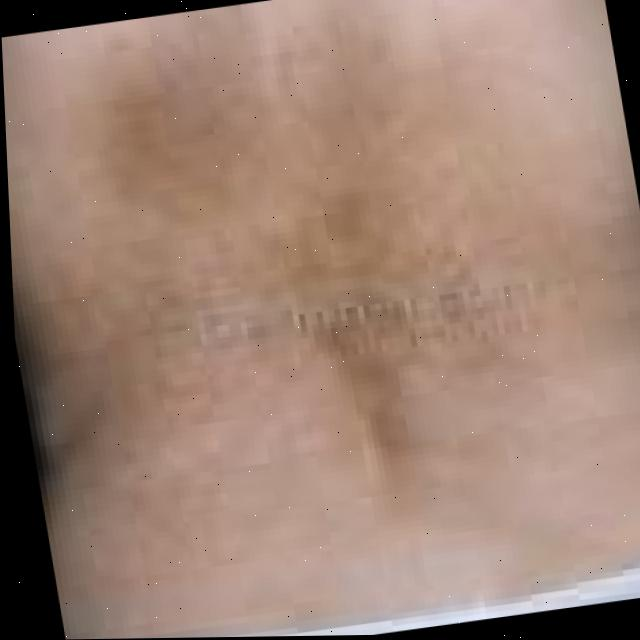Melasma: (148, 22, 503, 396)
